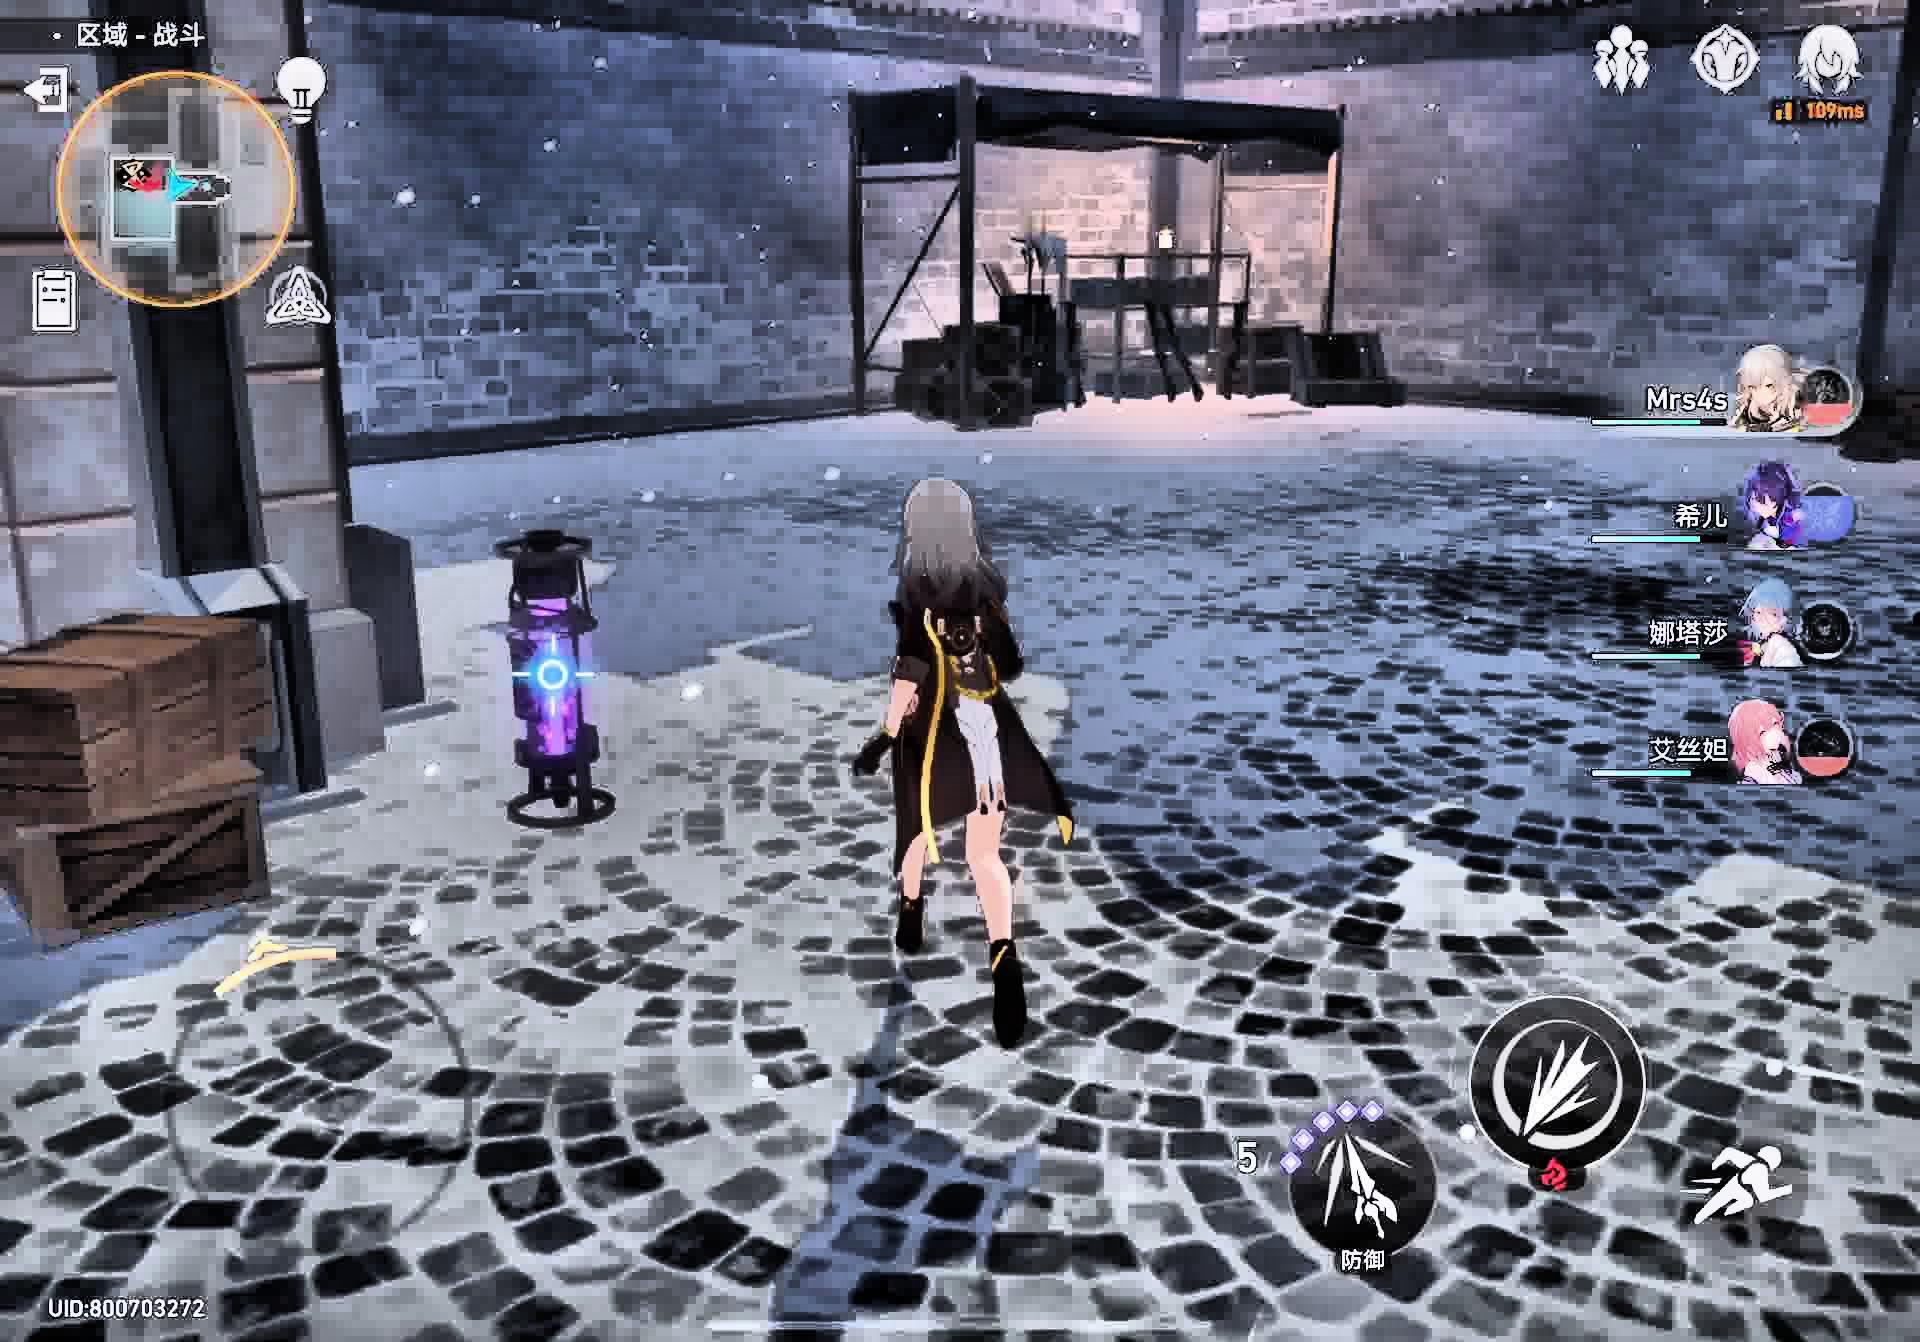Self: (852, 478, 1080, 1053)
